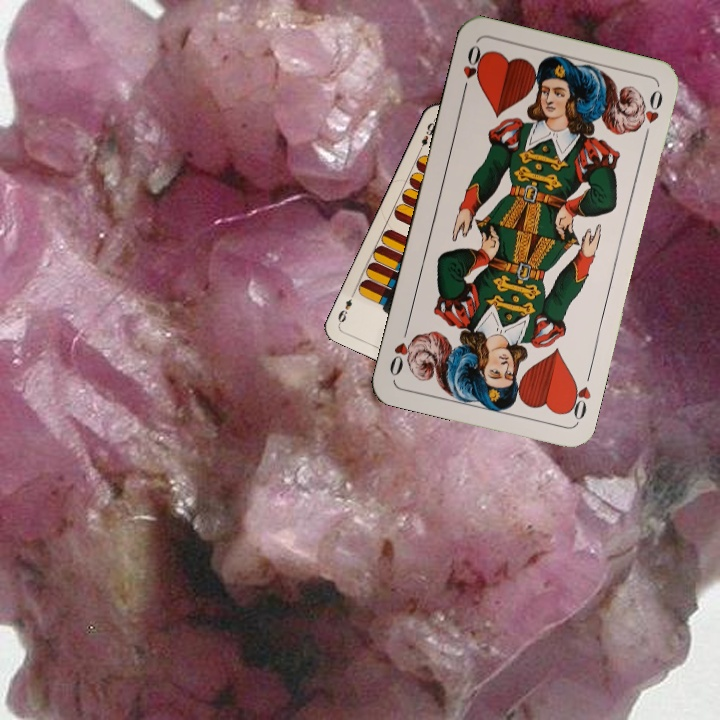E9: (414, 118, 438, 155)
HO: (562, 366, 594, 425), (458, 41, 488, 98)
